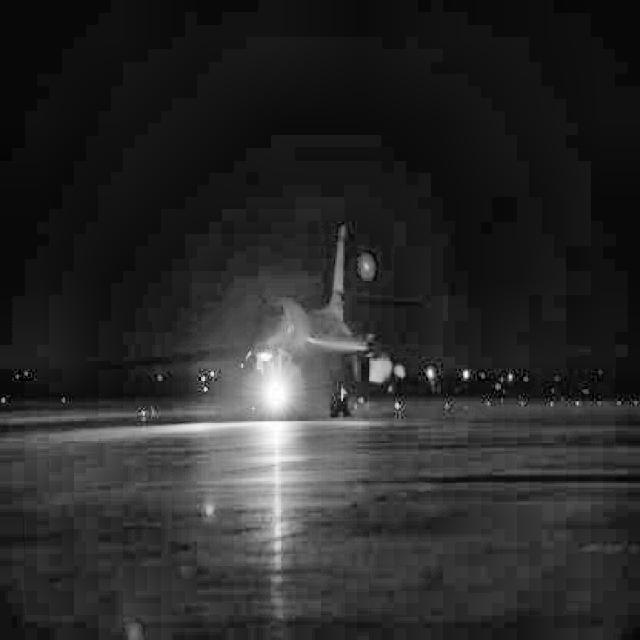B1: (59, 225, 590, 418)
